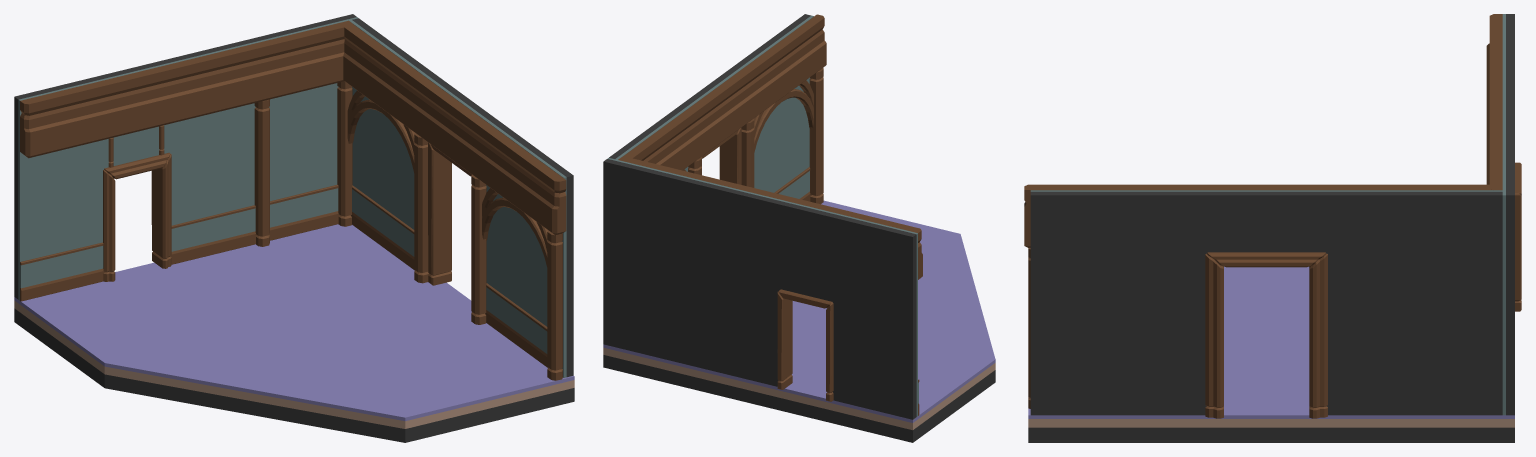
File: ME_SodaParlor_Room.fbx
3 renders of one model, left to right at view 1: azimuth 30°, elevation 25°; view 2: azimuth 150°, elevation 25°; view 3: azimuth 270°, elevation 25°, orthographic. The views are drawn at different scales.
Parts seen in each view (by area): view 1: ME_SodaParlor_Room; view 2: ME_SodaParlor_Room; view 3: ME_SodaParlor_Room.
Boxes of the visible parts, box(x1,y1,x2,y2) form: ME_SodaParlor_Room: box(14, 14, 574, 442); ME_SodaParlor_Room: box(603, 14, 995, 442); ME_SodaParlor_Room: box(1024, 14, 1521, 442).
Bounding box in the file's own units: 90401 × 56334 × 102621.
